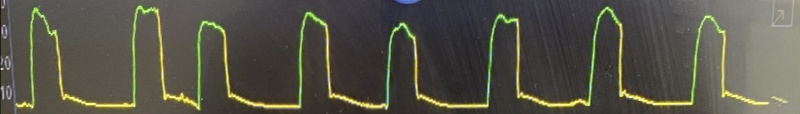normal_pressure: (6, 2, 782, 114)
